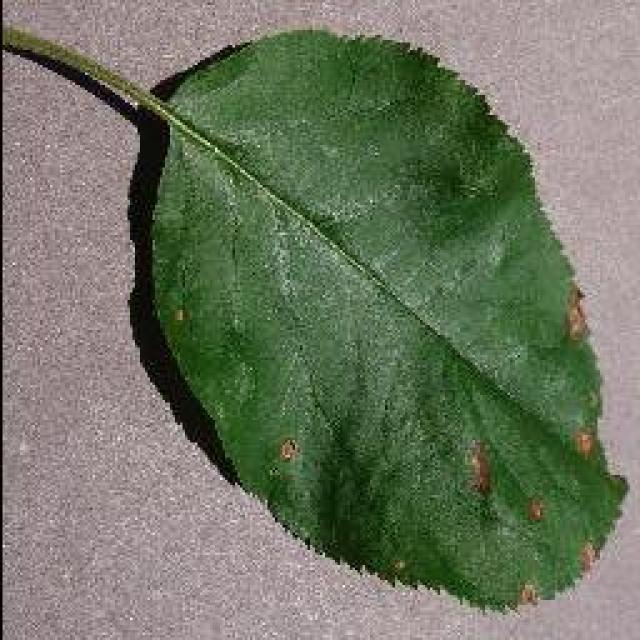apple black rot: (122, 25, 630, 615)
